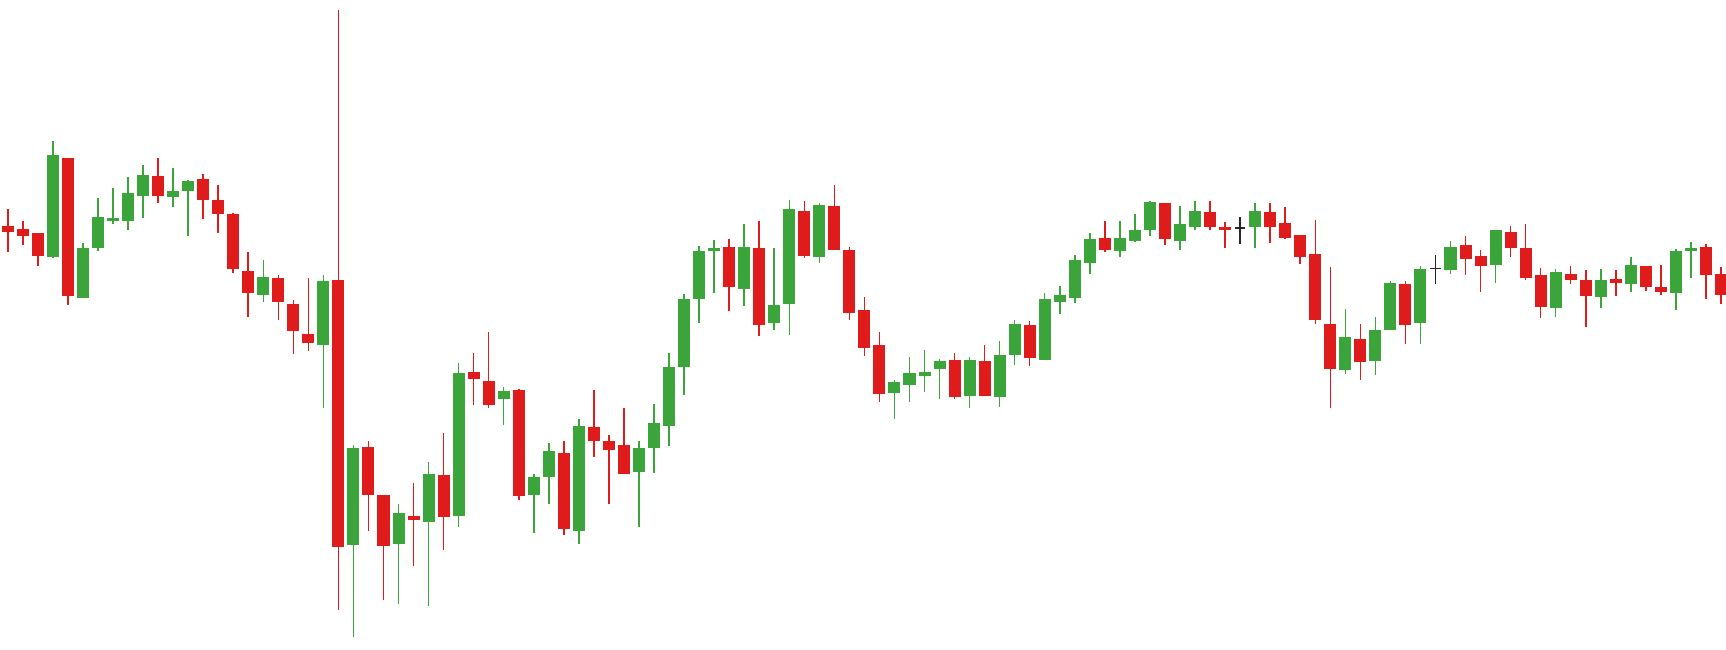buy: (1007, 260, 1353, 413)
